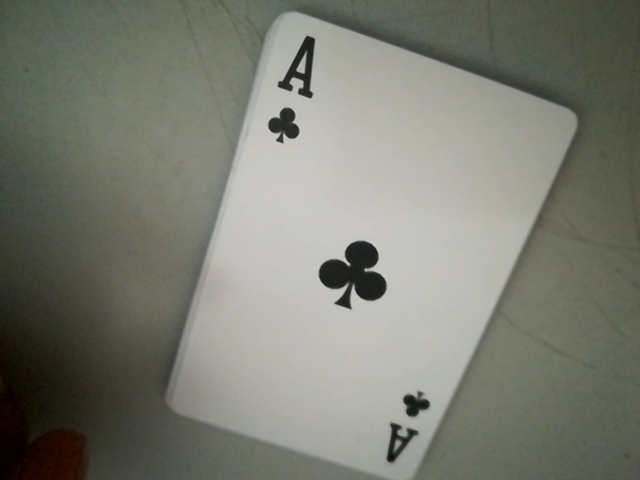mh a: (253, 22, 322, 156), (380, 385, 440, 477)
